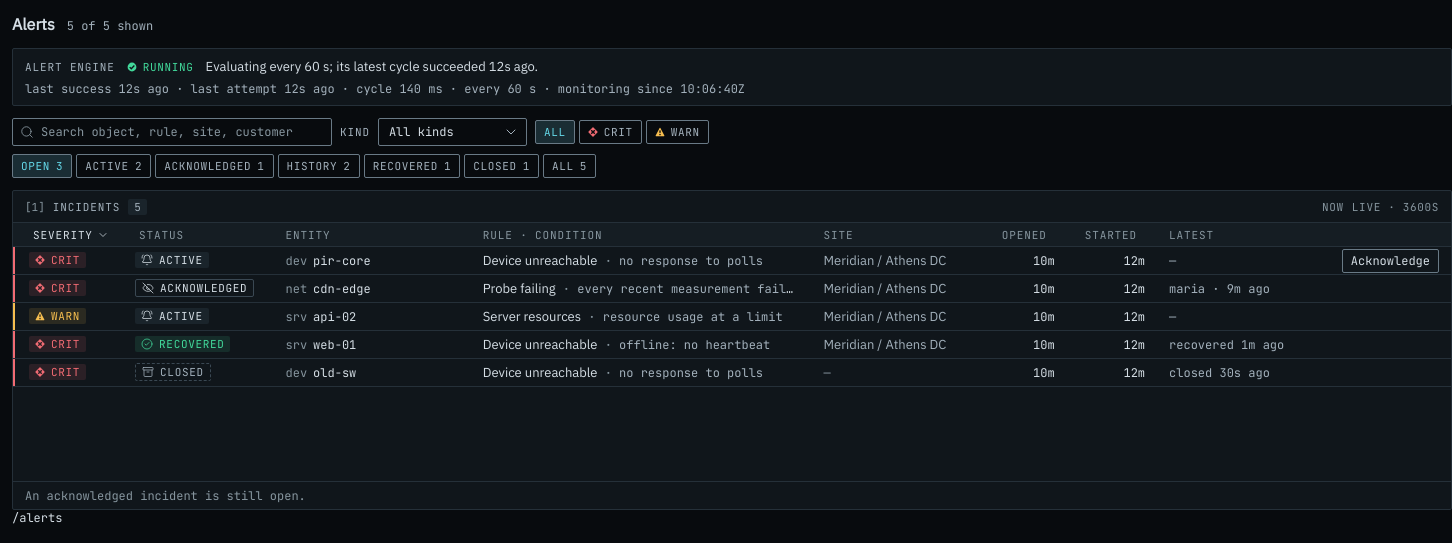
Test: the filters › choose a status chip: history, active, acknowledged, recovered, closed and all each ask for their own
This screenshot has width=1452, height=543.
Click the button "HISTORY 2" at coordinates (319, 166), box top-left (278, 154), bottom-right (360, 178)
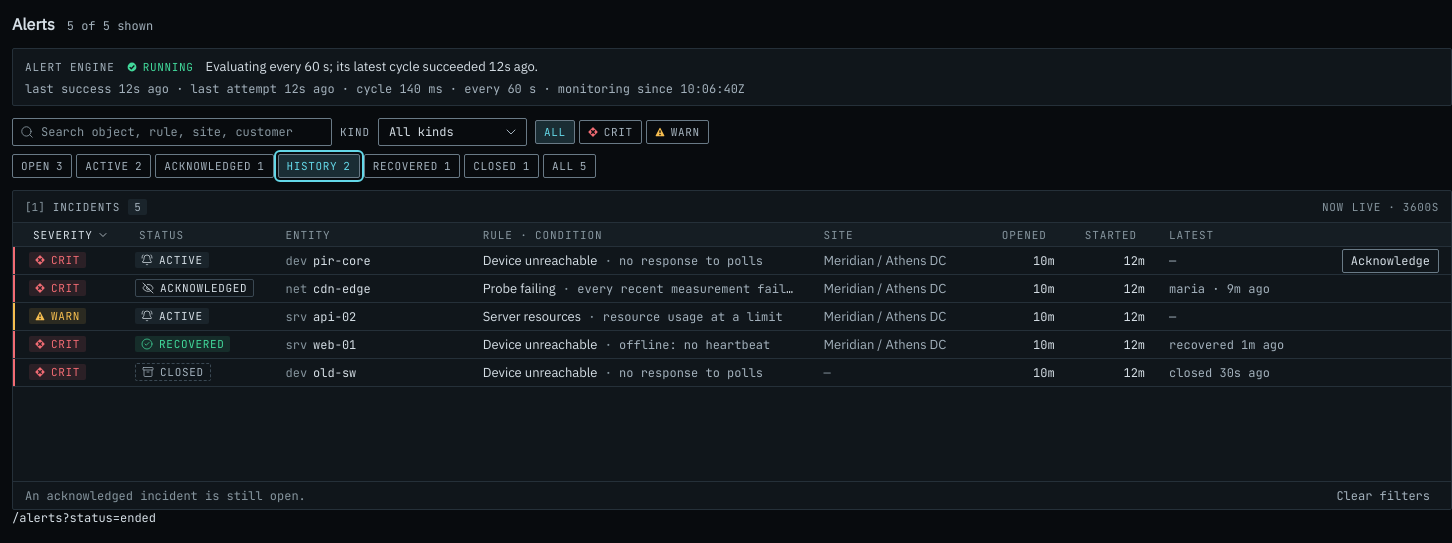
Now the text with test id "location" shows "status=ended", box top-left (12, 510), bottom-right (156, 526)
Click the button "ACTIVE 2" at coordinates (114, 166), box top-left (76, 154), bottom-right (151, 178)
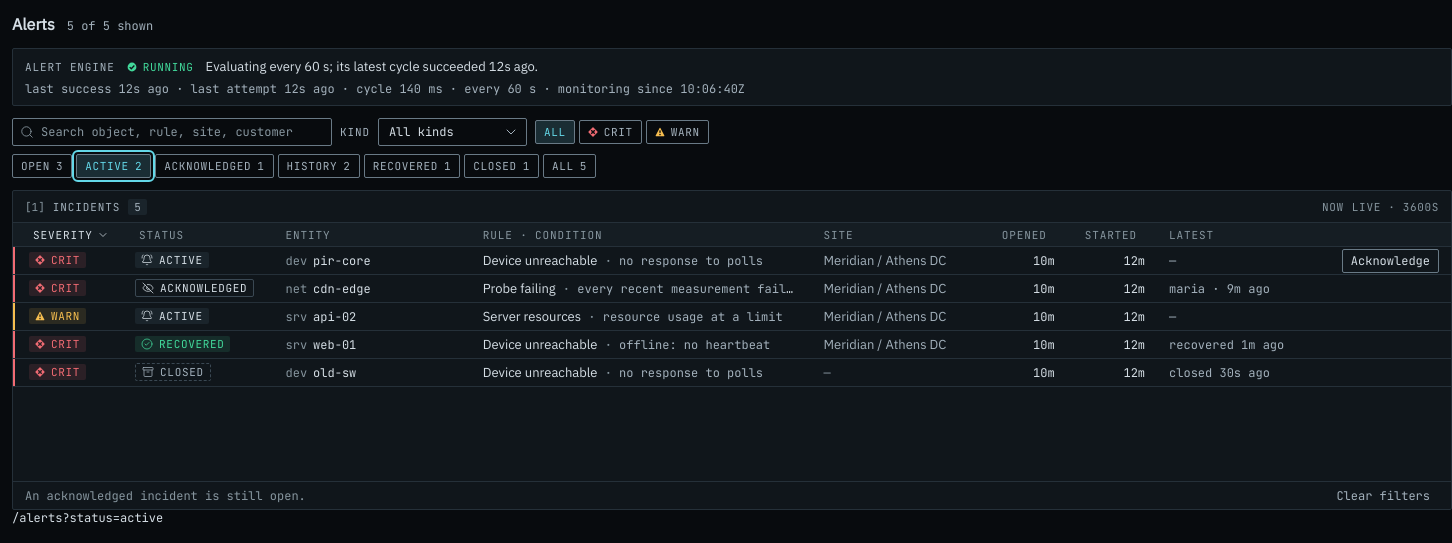
Click the button "ACKNOWLEDGED 1" at coordinates (214, 166), box top-left (155, 154), bottom-right (274, 178)
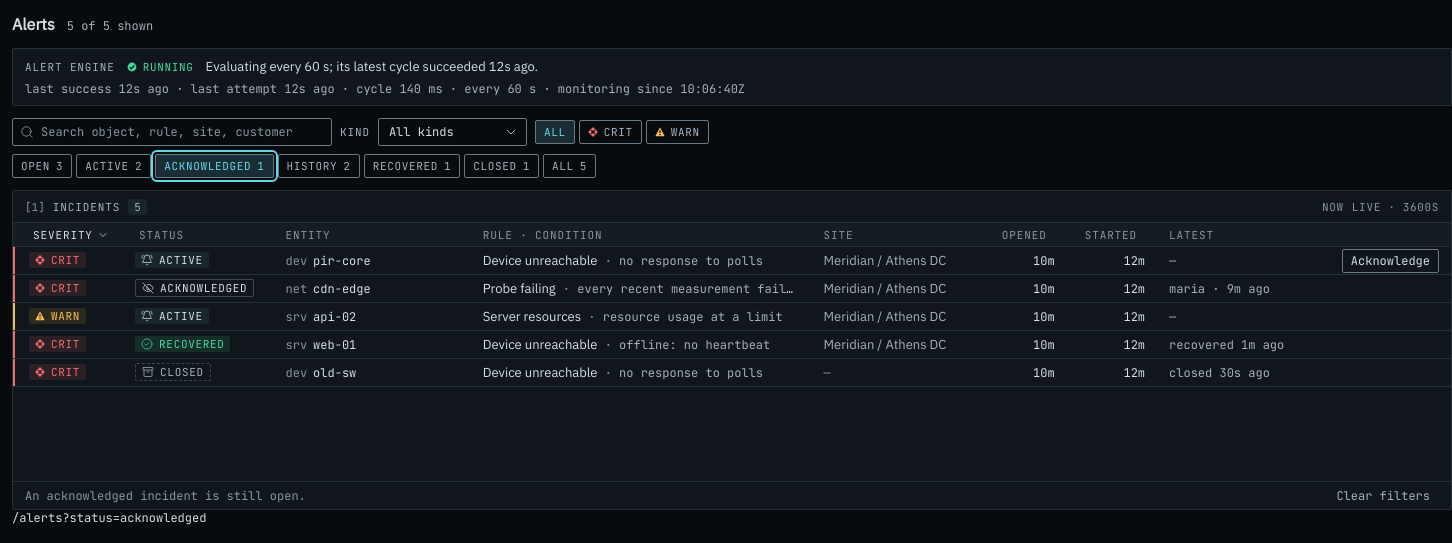
Now the text with test id "location" shows "status=acknowledged", box top-left (12, 510), bottom-right (206, 526)
Click the button "RECOVERED 1" at coordinates (412, 166), box top-left (364, 154), bottom-right (460, 178)
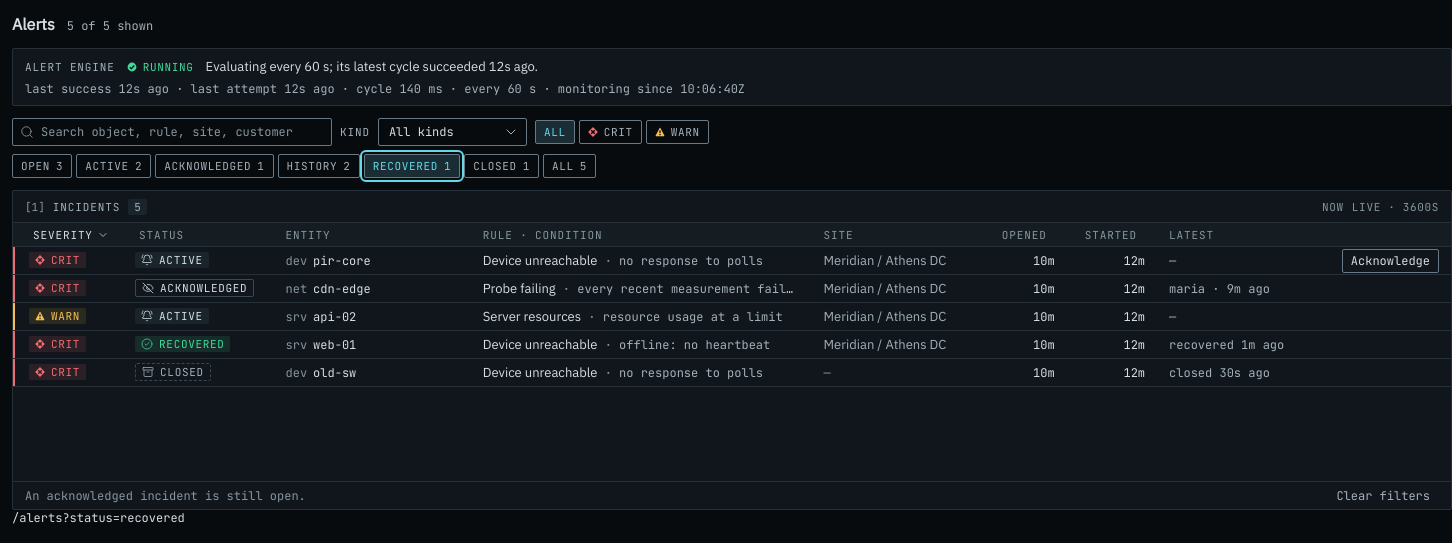
Click the button "CLOSED 1" at coordinates (502, 166), box top-left (464, 154), bottom-right (539, 178)
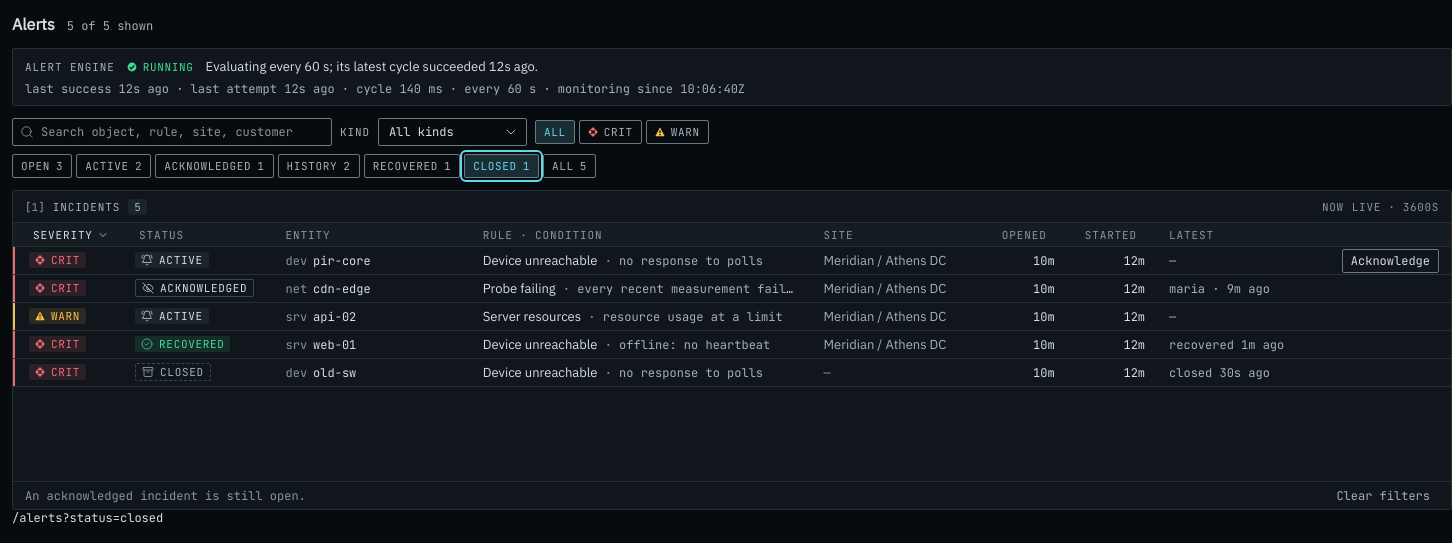
Click the button "ALL 5" at coordinates (570, 166), box top-left (543, 154), bottom-right (596, 178)
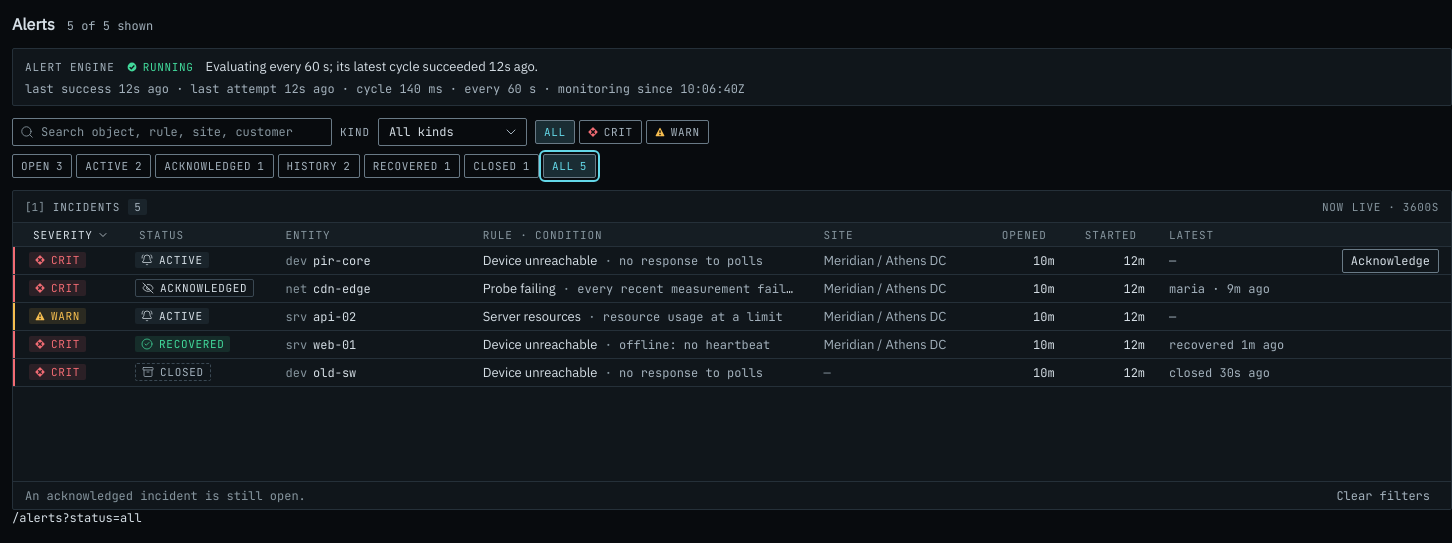
Now the text with test id "location" shows "status=all", box top-left (12, 510), bottom-right (142, 526)
